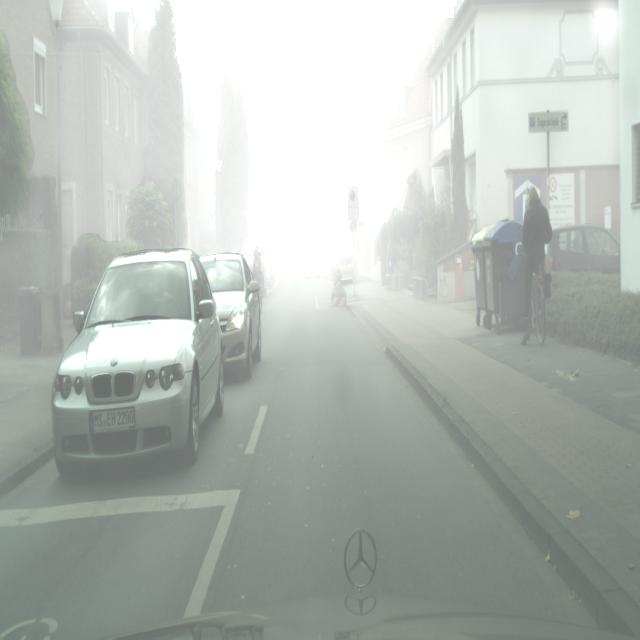car: (51, 249, 226, 479), (200, 252, 262, 380), (548, 224, 620, 272), (251, 249, 267, 299), (331, 252, 354, 285), (298, 250, 324, 278), (262, 255, 276, 290)
person: (521, 184, 552, 337), (251, 249, 267, 299)
truck: (521, 264, 546, 346)
